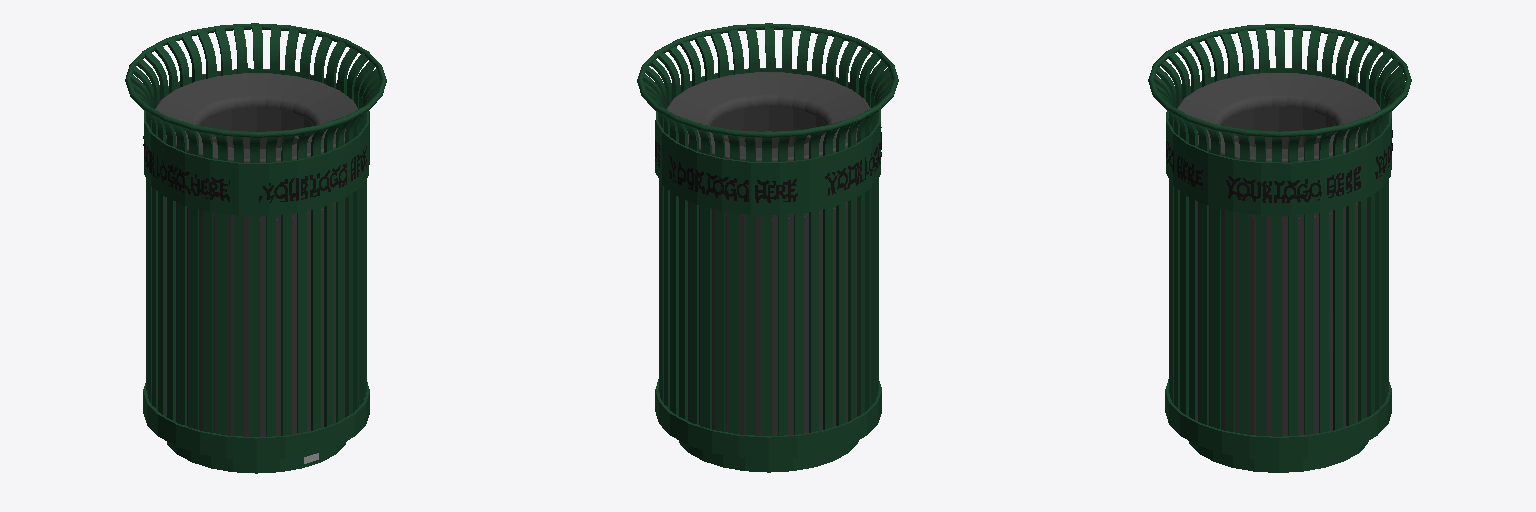
3 views of the same model, side by side, from view 1: azimuth 30°, elevation 25°; view 2: azimuth 150°, elevation 25°; view 3: azimuth 270°, elevation 25° (orthographic).
Parts seen in each view (by area): view 1: mesh105.001_mesh105-geometry, mesh73.002_mesh73-geometry, mesh94.002_mesh94-geometry, mesh102.001_mesh102-geometry, mesh103.001_mesh103-geometry, mesh142.001_mesh142-geometry, mesh135.001_mesh135-geometry, mesh104.001_mesh104-geometry, mesh144.001_mesh144-geometry, mesh133.001_mesh133-geometry, mesh131.001_mesh131-geometry, mesh119.001_mesh119-geometry (+18 smaller); view 2: mesh105.001_mesh105-geometry, mesh73.002_mesh73-geometry, mesh94.002_mesh94-geometry, mesh102.001_mesh102-geometry, mesh103.001_mesh103-geometry, mesh110.001_mesh110-geometry, mesh132.001_mesh132-geometry, mesh111.001_mesh111-geometry, mesh106.001_mesh106-geometry, mesh143.001_mesh143-geometry, mesh137.001_mesh137-geometry, mesh115.001_mesh115-geometry (+17 smaller); view 3: mesh73.002_mesh73-geometry, mesh105.001_mesh105-geometry, mesh94.002_mesh94-geometry, mesh102.001_mesh102-geometry, mesh103.001_mesh103-geometry, mesh129.001_mesh129-geometry, mesh116.001_mesh116-geometry, mesh145.001_mesh145-geometry, mesh140.001_mesh140-geometry, mesh121.001_mesh121-geometry, mesh130.001_mesh130-geometry, mesh126.001_mesh126-geometry (+17 smaller).
Boxes of the visible parts, <box> form: mesh105.001_mesh105-geometry: <box>144,68,369,415</box>; mesh73.002_mesh73-geometry: <box>166,107,344,436</box>; mesh94.002_mesh94-geometry: <box>155,73,357,162</box>; mesh102.001_mesh102-geometry: <box>143,382,369,473</box>; mesh103.001_mesh103-geometry: <box>125,23,386,137</box>; mesh142.001_mesh142-geometry: <box>281,135,295,435</box>; mesh135.001_mesh135-geometry: <box>266,137,278,436</box>; mesh104.001_mesh104-geometry: <box>198,132,212,432</box>; mesh144.001_mesh144-geometry: <box>215,135,227,435</box>; mesh133.001_mesh133-geometry: <box>297,132,312,433</box>; mesh131.001_mesh131-geometry: <box>182,127,198,429</box>; mesh119.001_mesh119-geometry: <box>250,138,260,436</box>; mesh105.001_mesh105-geometry: <box>655,68,880,416</box>; mesh73.002_mesh73-geometry: <box>688,106,856,435</box>; mesh94.002_mesh94-geometry: <box>666,72,870,161</box>; mesh102.001_mesh102-geometry: <box>655,379,881,472</box>; mesh103.001_mesh103-geometry: <box>637,23,898,137</box>; mesh110.001_mesh110-geometry: <box>697,123,711,428</box>; mesh132.001_mesh132-geometry: <box>794,135,807,434</box>; mesh111.001_mesh111-geometry: <box>778,137,789,435</box>; mesh106.001_mesh106-geometry: <box>809,132,823,432</box>; mesh143.001_mesh143-geometry: <box>762,138,771,435</box>; mesh137.001_mesh137-geometry: <box>728,135,739,434</box>; mesh115.001_mesh115-geometry: <box>711,132,724,431</box>; mesh73.002_mesh73-geometry: <box>1198,106,1366,435</box>; mesh105.001_mesh105-geometry: <box>1166,28,1391,215</box>; mesh94.002_mesh94-geometry: <box>1177,73,1380,162</box>; mesh102.001_mesh102-geometry: <box>1165,379,1391,472</box>; mesh103.001_mesh103-geometry: <box>1148,24,1411,137</box>; mesh129.001_mesh129-geometry: <box>1237,134,1249,434</box>; mesh116.001_mesh116-geometry: <box>1220,131,1234,431</box>; mesh145.001_mesh145-geometry: <box>1288,136,1300,435</box>; mesh140.001_mesh140-geometry: <box>1304,135,1317,434</box>; mesh121.001_mesh121-geometry: <box>1255,136,1265,435</box>; mesh130.001_mesh130-geometry: <box>1319,132,1334,432</box>; mesh126.001_mesh126-geometry: <box>1272,137,1282,436</box>.
Size of the model in its own units: 0.483 by 0.7271 by 0.4879.
15 materials, 1 textured.